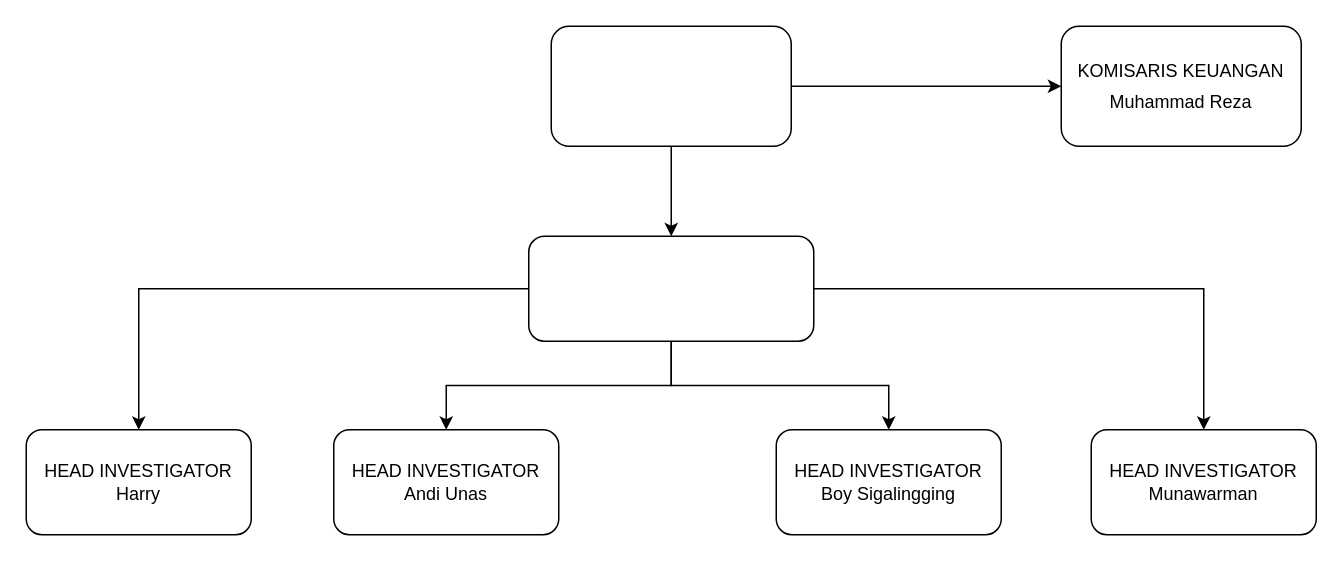
Some shapes in this 1343 by 561 pixel diagram are drawn without their labels. Each missing label, with the centre of its shape:
DIREKTUR UTAMA Guntur Supriyana: (670,85)
MANAGER OPERASIONAL Bambang Herwiyanto: (670,288)
